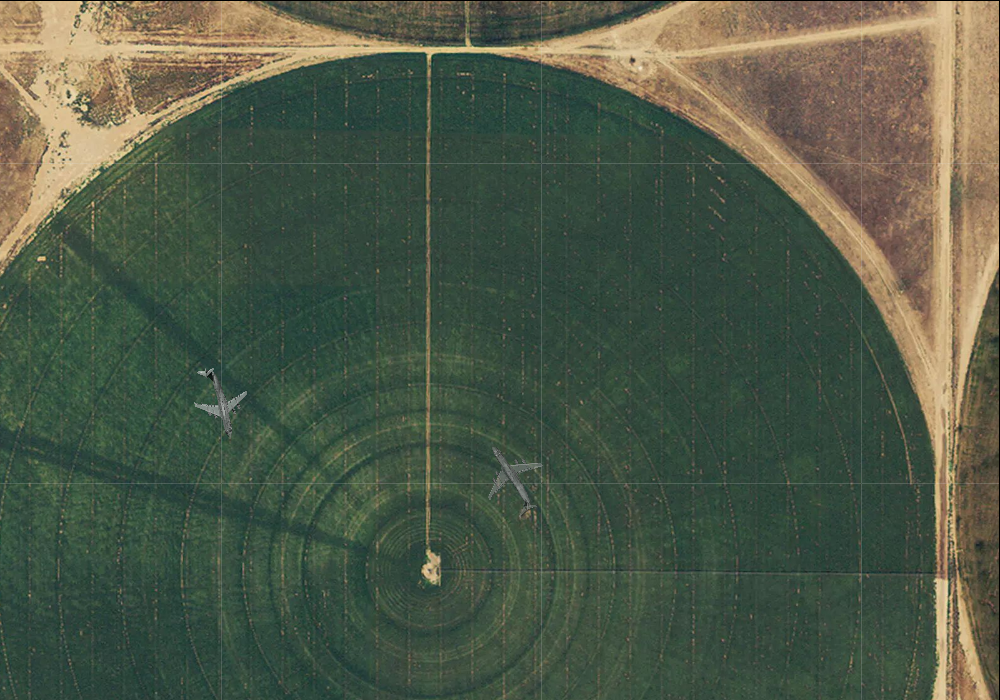plane: (460, 428, 562, 531), (178, 359, 258, 445)
